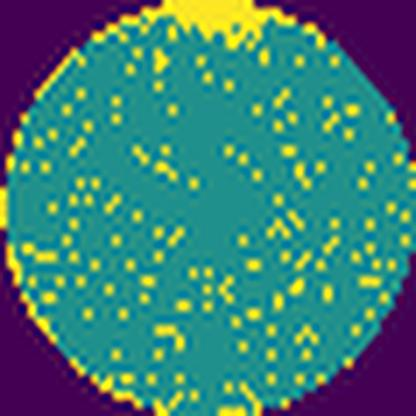Edge-Loc: (122, 0, 294, 52)
